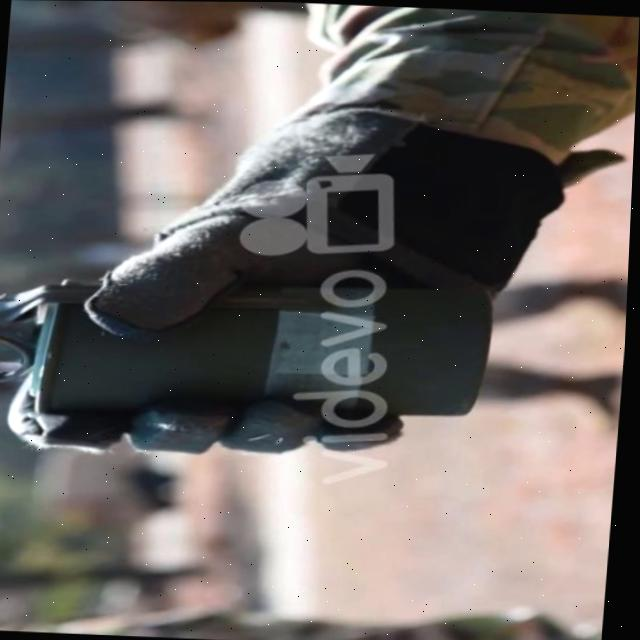grenade: (0, 241, 506, 465)
